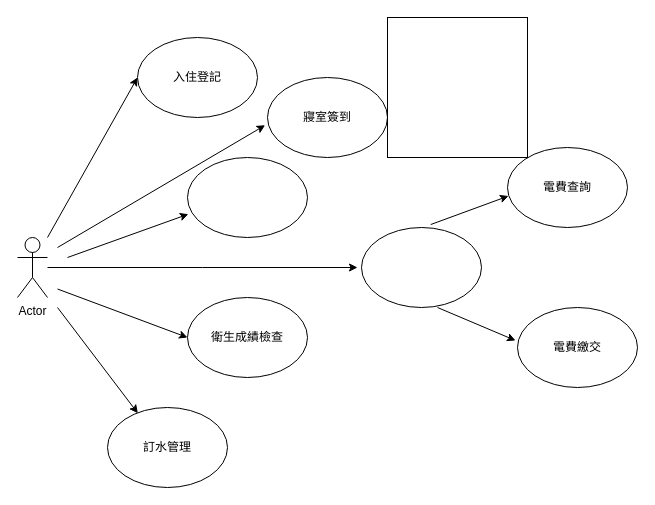
The diagram is 655 pixels wide and 505 high, and some of its shapes have lost their labels. The centre of each missing label's shape, as x and y in pixels:
"寢室簽離" goes at point (247, 197).
"這是一個學生角色，主要能進行的操作有: 1.寢室入住登記 2.寢室簽到 3.寢室簽離 4.寢室衛生成績檢查 5.訂水管理 6.電費管理" goes at point (457, 87).
"電費管理" goes at point (421, 267).
